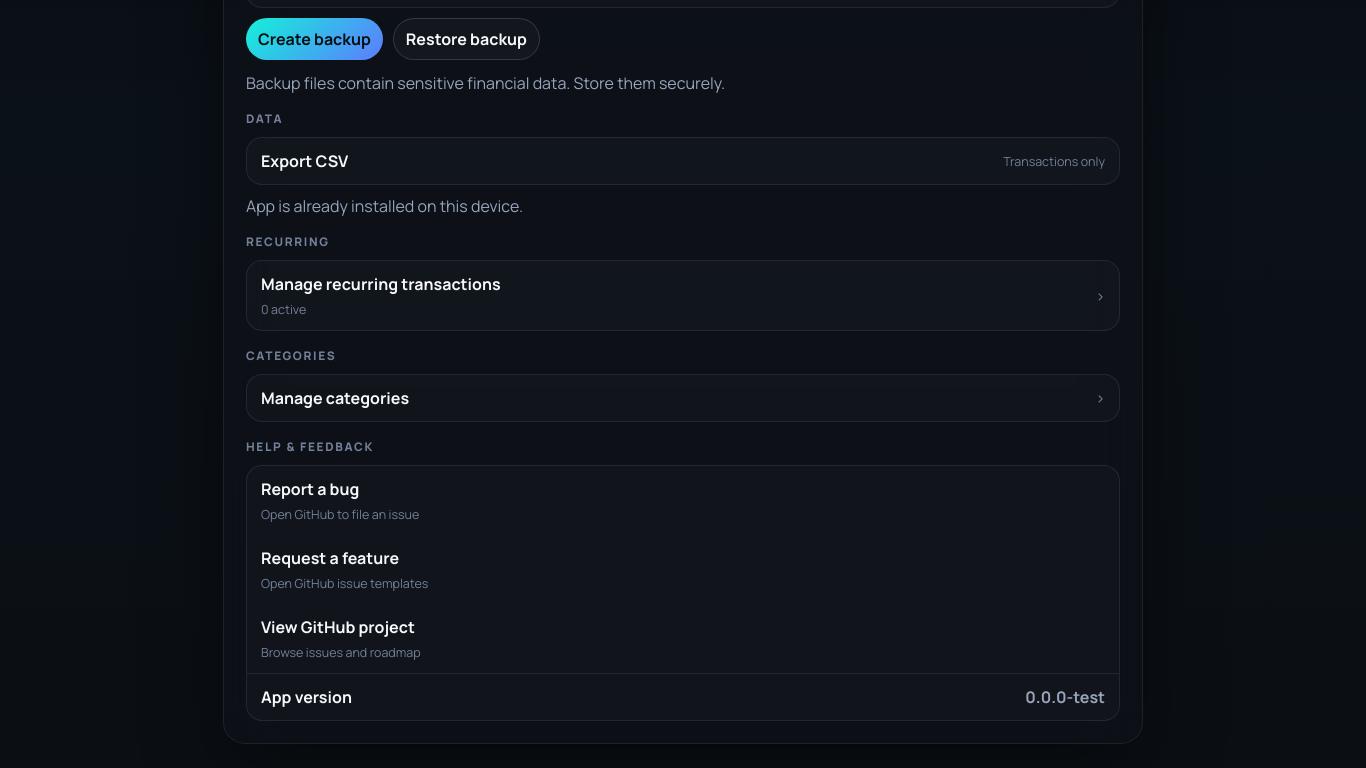
SettingsScreen direct flows › blocks incompatible kind changes for linked categories
(page scrolled)
Click the button "Manage categories >". click: (335, 398)
box: [247,375,1119,421]
(page scrolled)
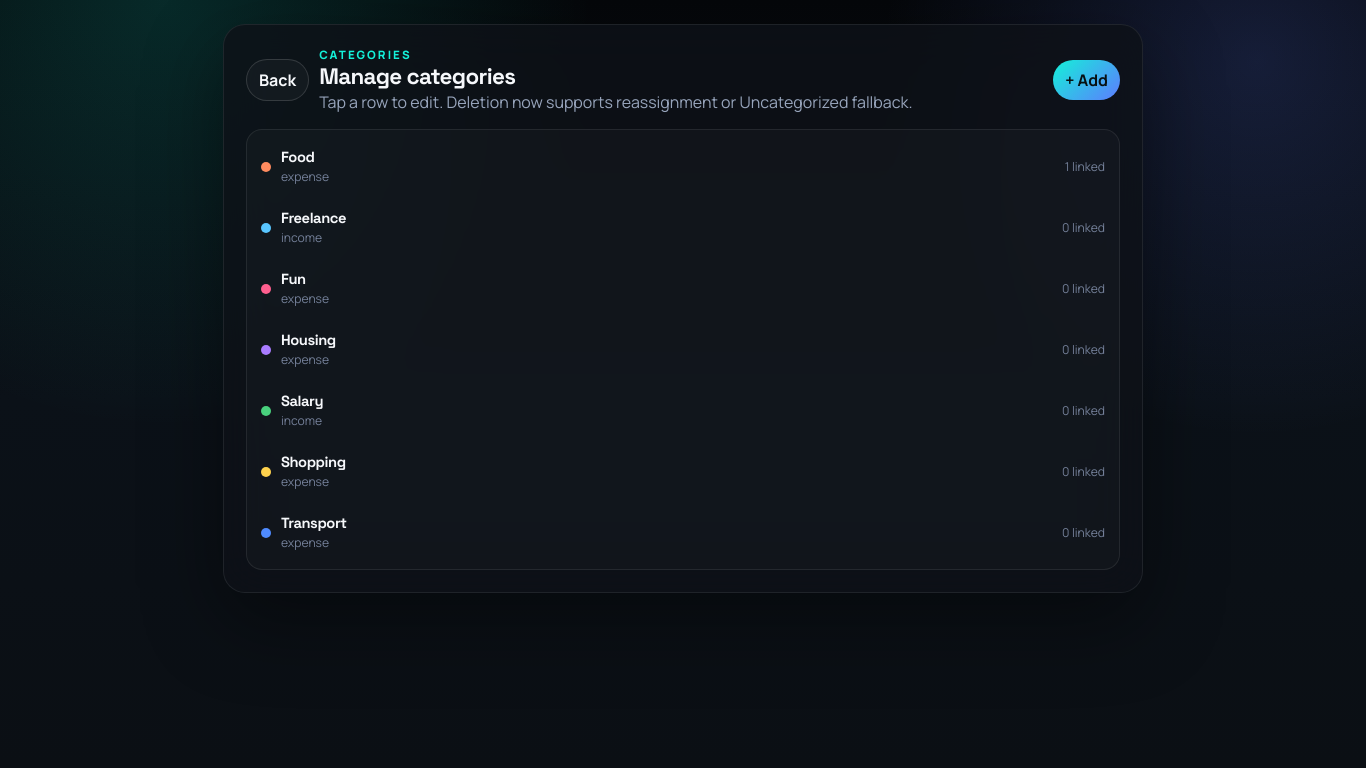
Click the button "Food expense 1 linked". click: (298, 157)
box: [247,136,1119,197]
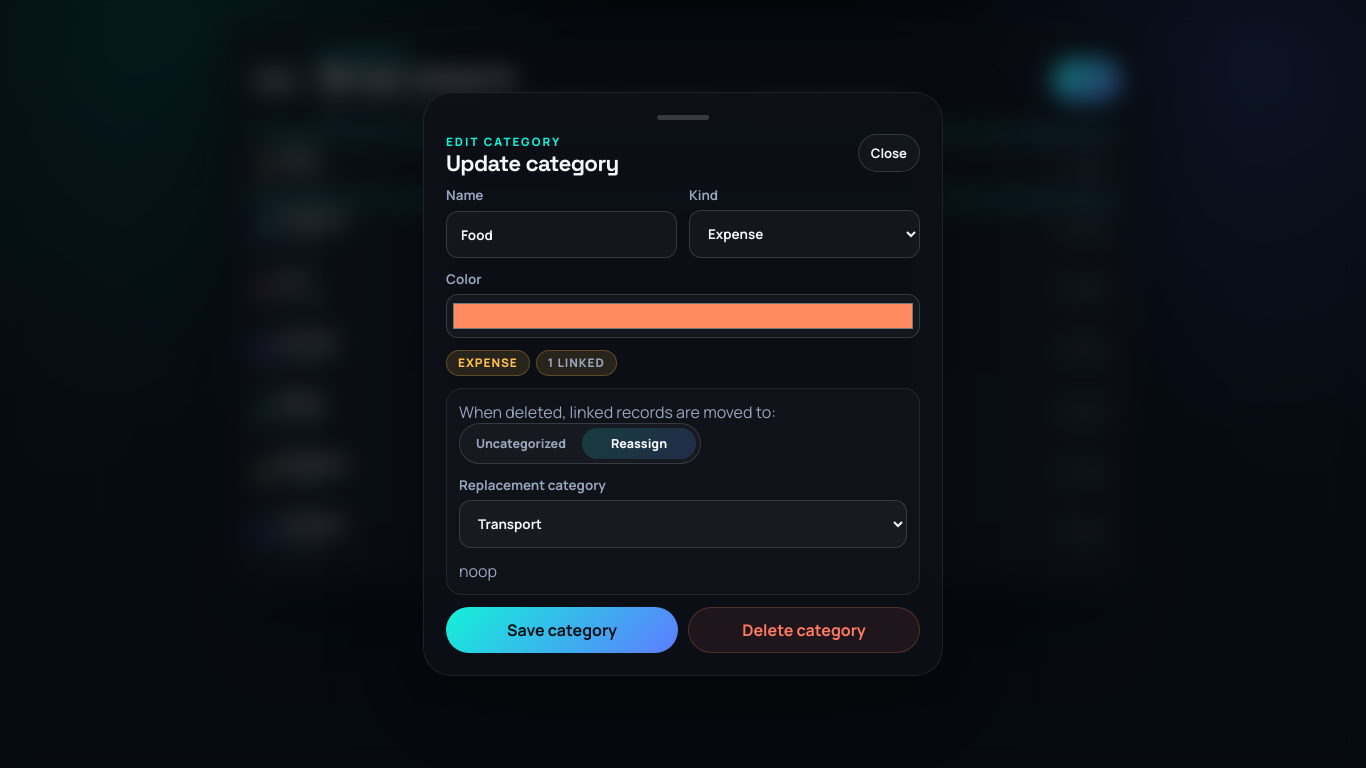
Select "Income" in the dropdown labelled "Kind". click: (804, 234)
box: [689,210,920,258]
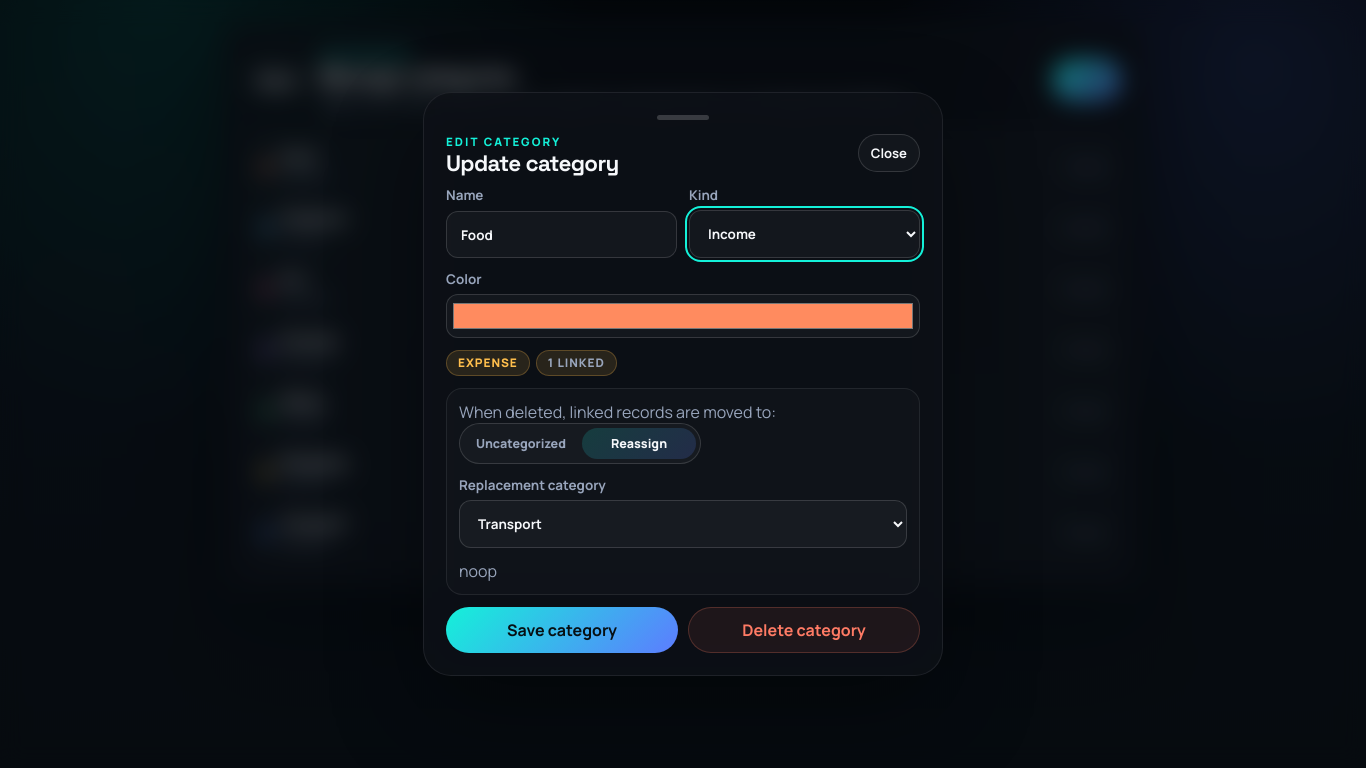
Click the button "Save category". click: (562, 630)
box: [446,607,678,653]
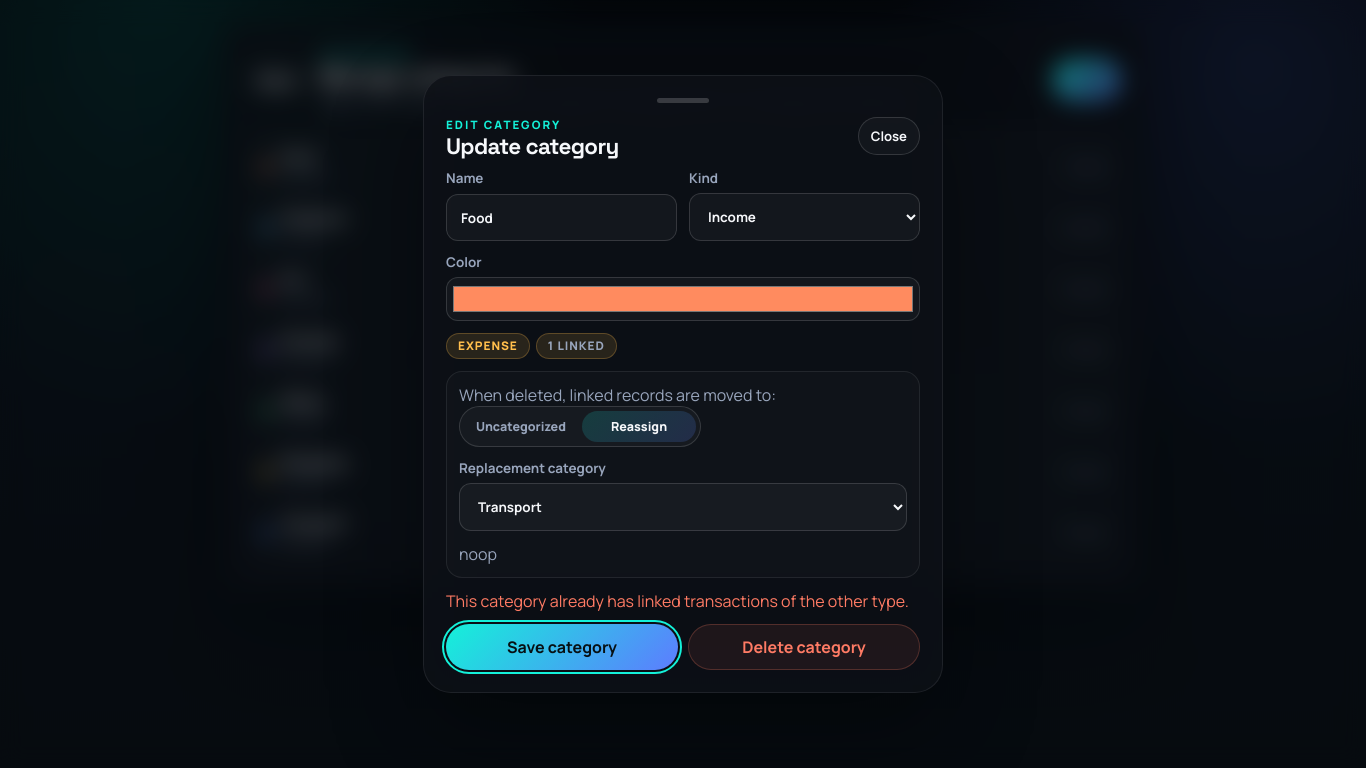
Result: the text "This category already has linked transactions of the other type." is shown at [446,590,920,612]
